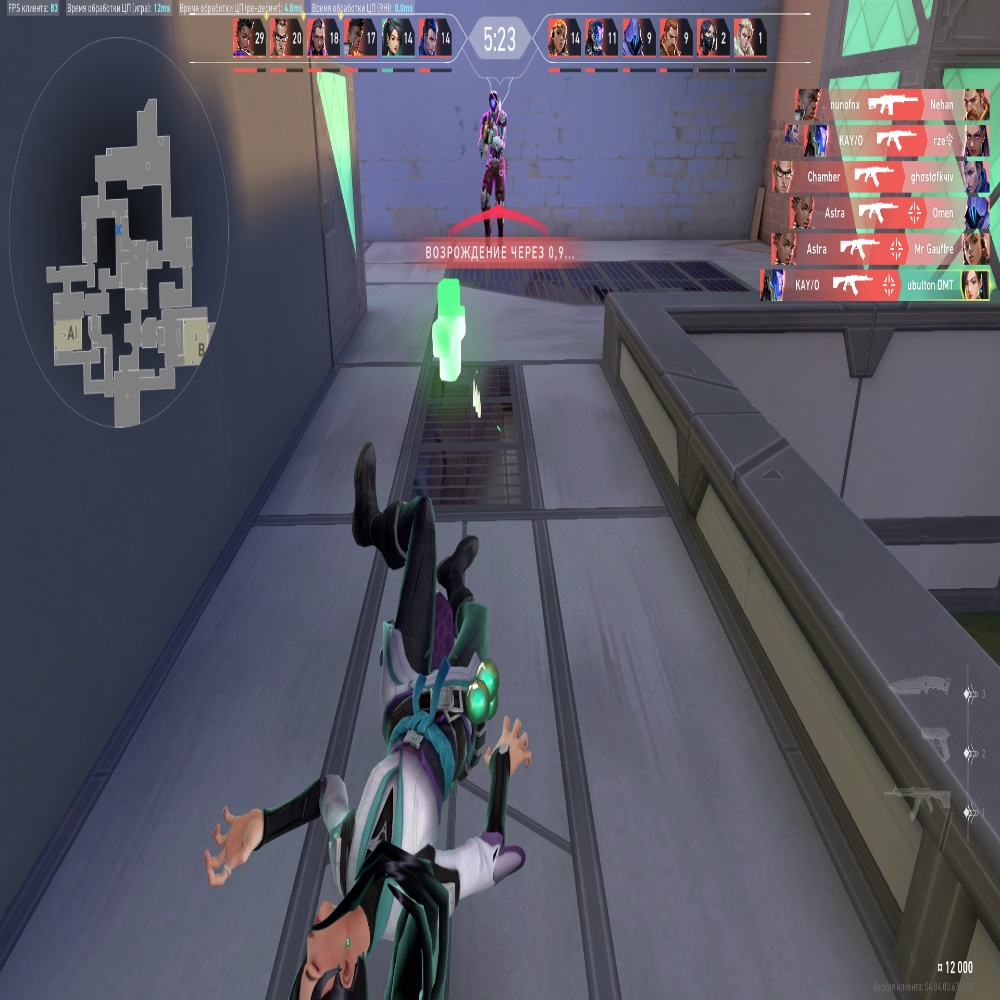body: (482, 117, 508, 163)
head: (488, 93, 498, 110)
